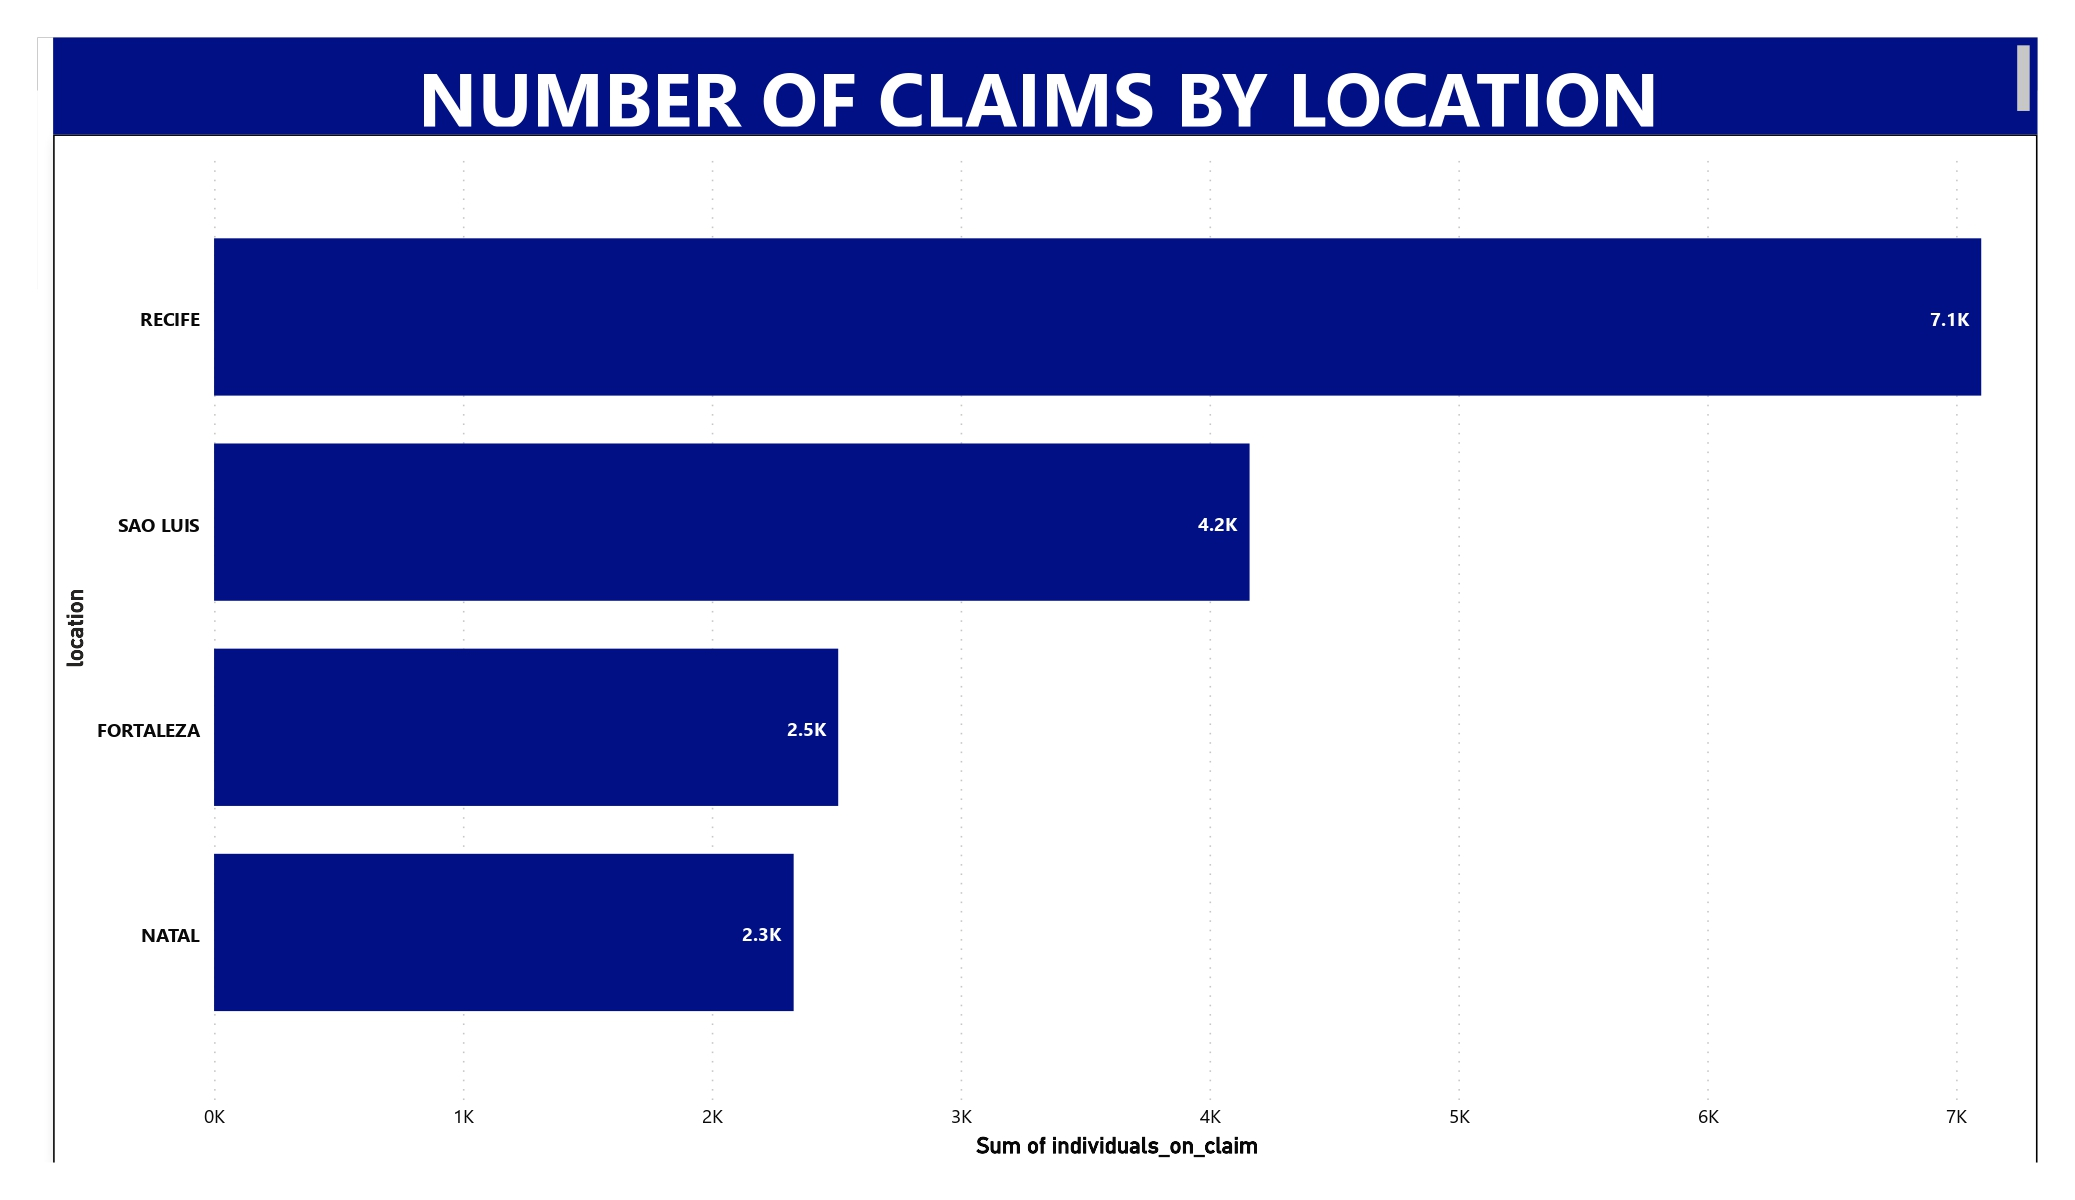

The page's visual inventory and layout, read from the dashboard file:
{"tool":"powerbi","page":{"name":"Claims by Location","canvas":[1280,720],"ordinal":0},"visuals":[{"type":"clusteredBarChart","fields":{"Category":["food_claims_2212.location"],"Y":["Sum(food_claims_2212.individuals_on_claim)"]},"box":[10.1,62.2,1269.9,658.5],"z":0},{"type":"textbox","box":[10.1,0,1269.9,62.2],"z":1000}]}

Visuals, with their boxes in screenshot pixels (x1, y1, x2, y2):
clusteredBarChart - food_claims_2212.location x Sum(food_claims_2212.individuals_on_claim): crop(53, 135, 2038, 1162)
textbox: crop(53, 38, 2038, 135)
